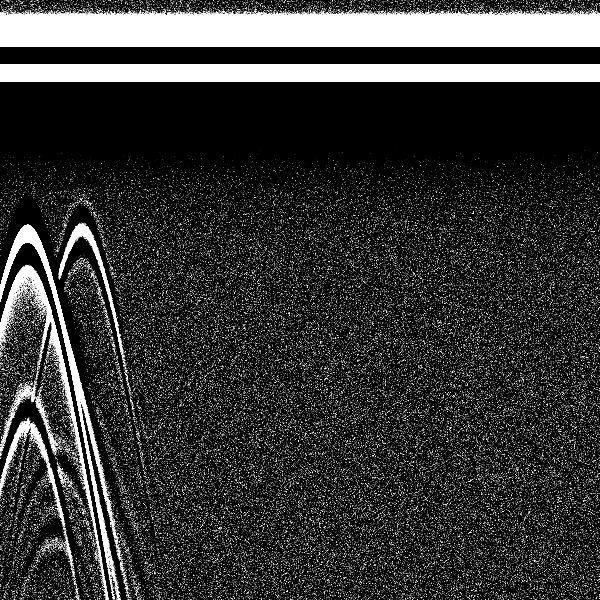pipe: (46, 3, 121, 300), (1, 6, 68, 318)
